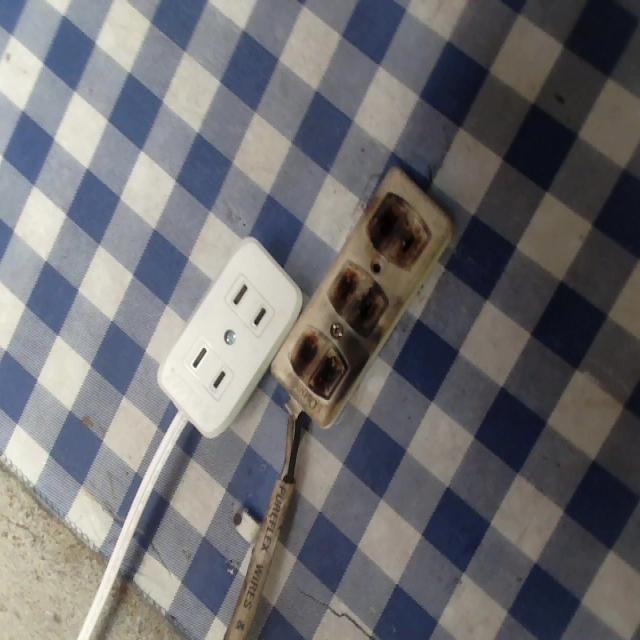-: (364, 180, 437, 276), (326, 250, 393, 338), (285, 327, 338, 402)
